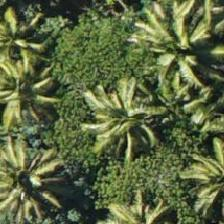coconut_tree: (89, 79, 179, 169), (130, 0, 220, 88), (0, 3, 57, 93), (167, 125, 223, 215), (0, 115, 55, 205)
